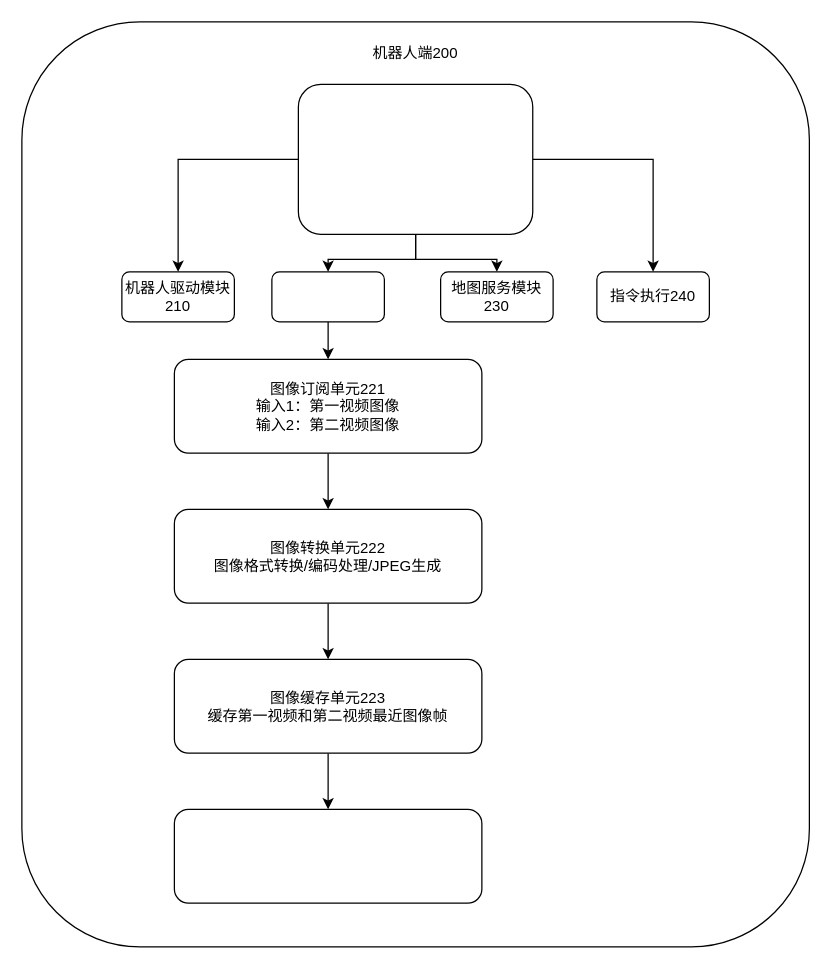
The diagram is 831 pixels wide and 969 high, and some of its shapes have lost their labels. The shapes that lost their labels are listed below. From the top down, each one's centre as x and y in pixels, then its label:
At (x=415, y=158): "服务管理模块250 启动/停止/状态检查 旧进程清理/端口检查".
At (x=327, y=296): "视频服务模块220".
At (x=327, y=855): "图像发布单元224 第一视频图像访问接口/第二图像访问接口/统计接口".
